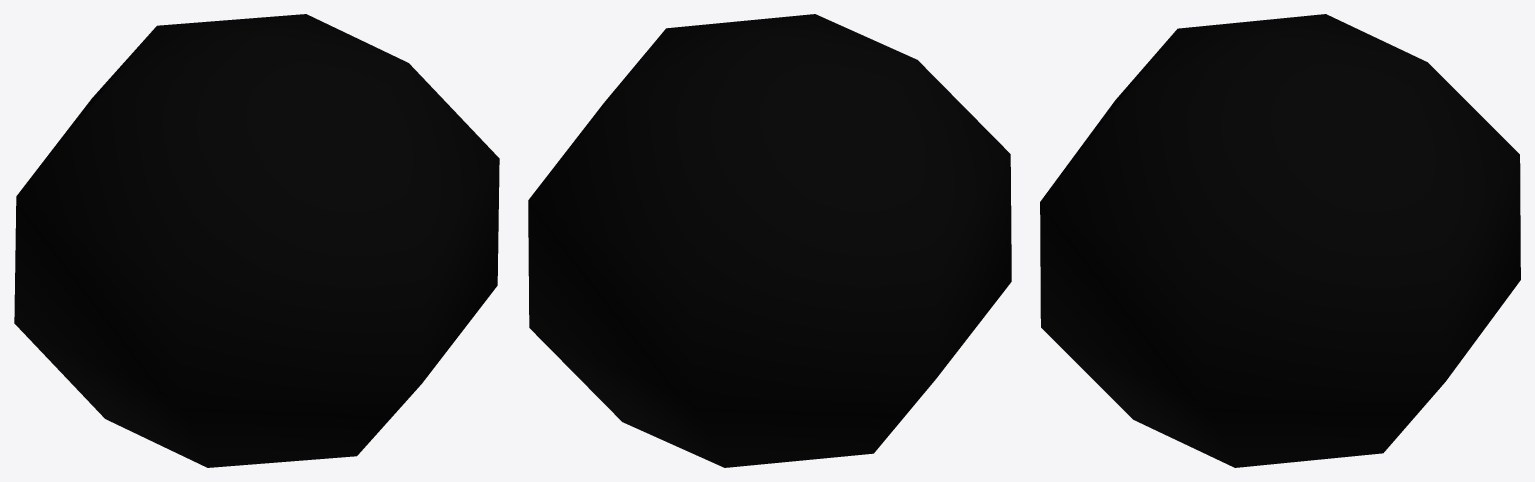
File: bubble_solid_sphere10.glb
3 views of the same model, side by side, from view 1: azimuth 30°, elevation 25°; view 2: azimuth 150°, elevation 25°; view 3: azimuth 270°, elevation 25° (orthographic).
Visible parts, largest first — view 1: bubble_solid_texture.png__; view 2: bubble_solid_texture.png__; view 3: bubble_solid_texture.png__.
Part boxes in pixels (bbox=[...]): bubble_solid_texture.png__: bbox=[14, 14, 499, 467]; bubble_solid_texture.png__: bbox=[528, 14, 1011, 467]; bubble_solid_texture.png__: bbox=[1040, 14, 1520, 467].
Size of the model in its own units: 8 by 7.68 by 8.2.
Materials: 1 (1 with a texture image).
